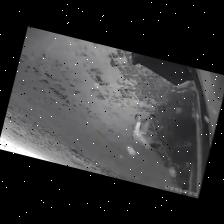person: (132, 113, 159, 148)
